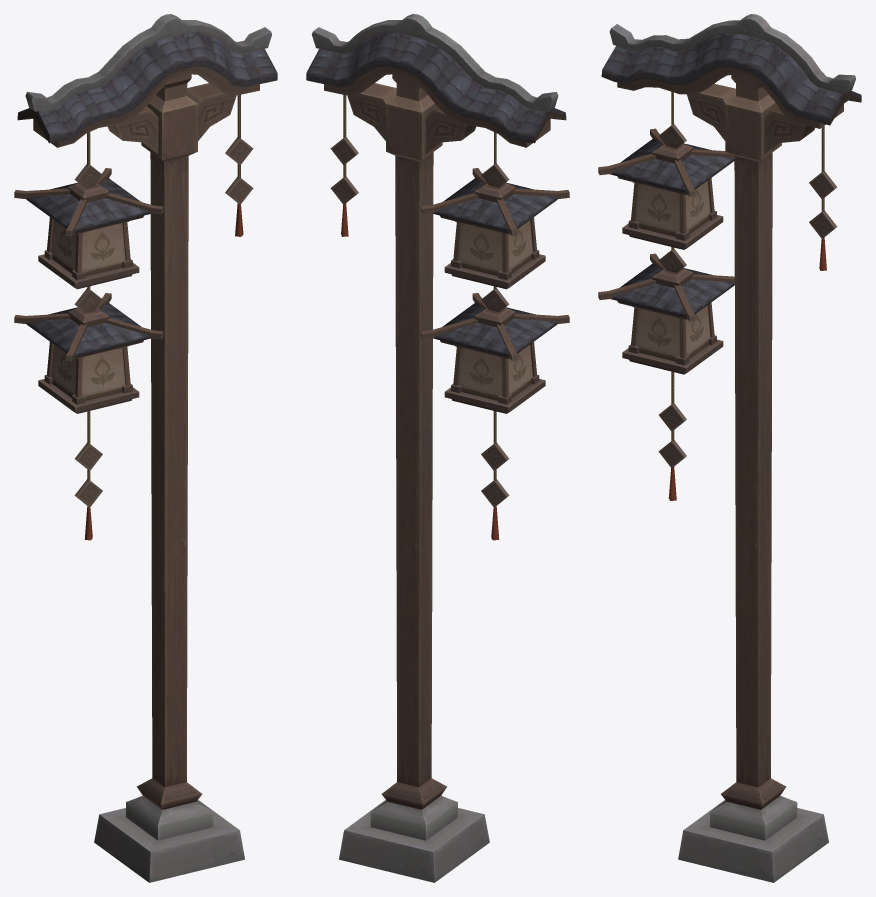
File: Homeworld_Exterior_Cyg_Lamp_Light_YlbLudeng_01_Lod0.fbx
The picture shows the model from 3 angles, left to right: view 1: azimuth 30°, elevation 25°; view 2: azimuth 150°, elevation 25°; view 3: azimuth 330°, elevation 25°; orthographic projection.
Visible parts, largest first — view 1: Area_Cyg_Light_QYZ_Deng_02_Lod0; view 2: Area_Cyg_Light_QYZ_Deng_02_Lod0; view 3: Area_Cyg_Light_QYZ_Deng_02_Lod0.
Part boxes in pixels (x1=…): Area_Cyg_Light_QYZ_Deng_02_Lod0: x1=14, y1=14, x2=277, y2=882; Area_Cyg_Light_QYZ_Deng_02_Lod0: x1=306, y1=14, x2=569, y2=882; Area_Cyg_Light_QYZ_Deng_02_Lod0: x1=598, y1=14, x2=861, y2=882.
Size of the model in its own units: 1.54 by 5.09 by 0.6212.
